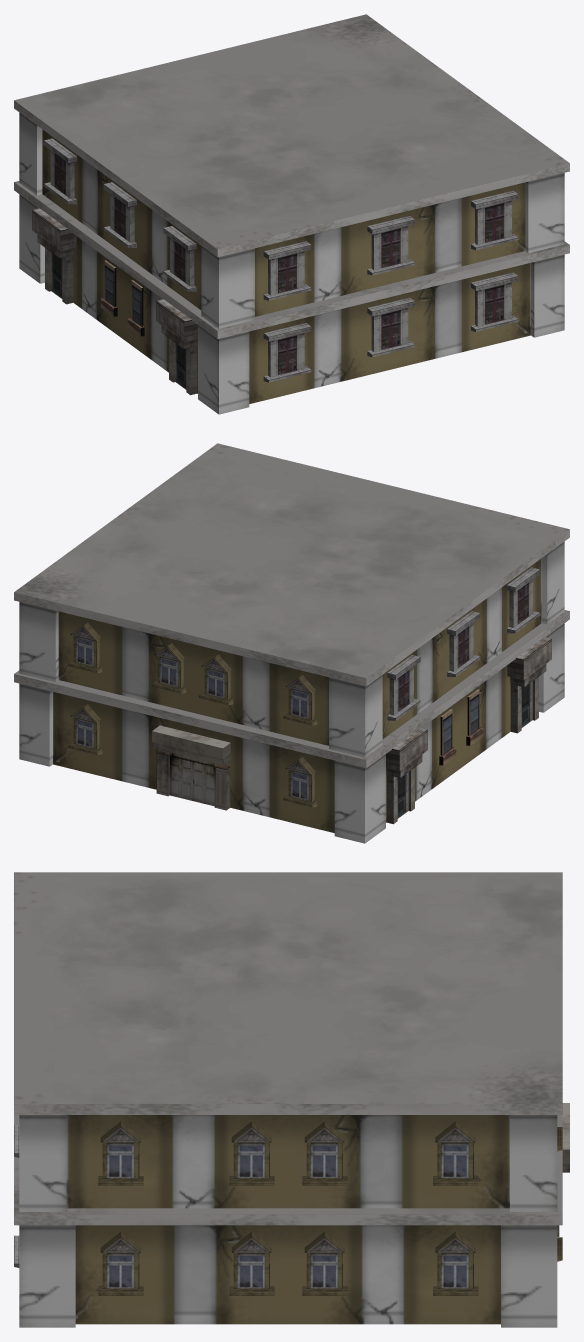
Rendered from Building03_2.FBX.
The picture shows the model from 3 angles, top to bottom: view 1: azimuth 30°, elevation 25°; view 2: azimuth 150°, elevation 25°; view 3: azimuth 270°, elevation 25°; orthographic projection. The views are drawn at different scales.
Parts seen in each view (by area): view 1: Building2; view 2: Building2; view 3: Building2.
Part boxes in pixels (x1=…): Building2: x1=14, y1=14, x2=569, y2=414; Building2: x1=14, y1=443, x2=569, y2=843; Building2: x1=14, y1=872, x2=569, y2=1327.
Size of the model in its own units: 9.21 by 4.1 by 9.14.
